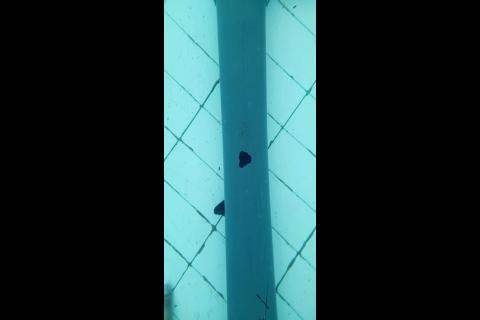kebocoran: (237, 150, 252, 169)
keretakan: (257, 285, 271, 320)
